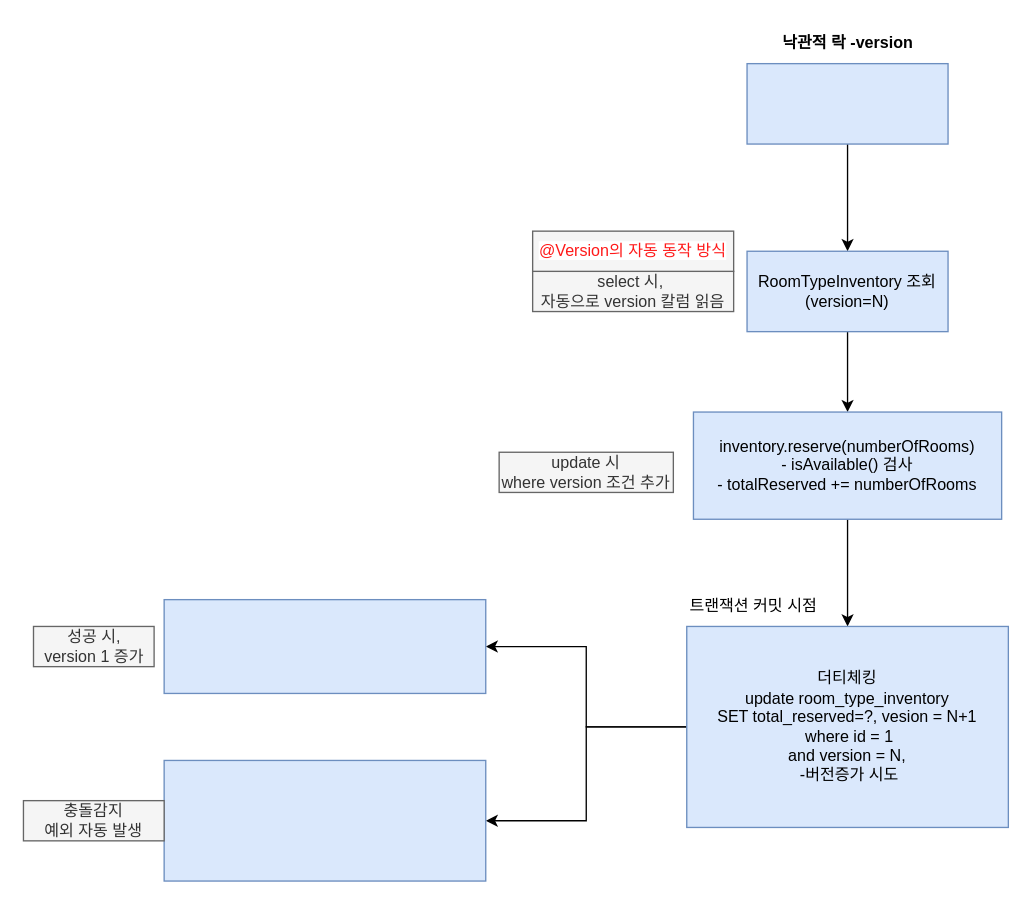
The diagram is 1032 pixels wide and 905 high, and some of its shapes have lost their labels. The centre of each missing label's shape, as x and y in pixels:
0 rows updated (이미 version=N+1) -> 실패 OptimisticLockException 롤백: [324,820]
1 row updated → 성공 version = n+1: [324,645]
POST /reservation: [847,103]
